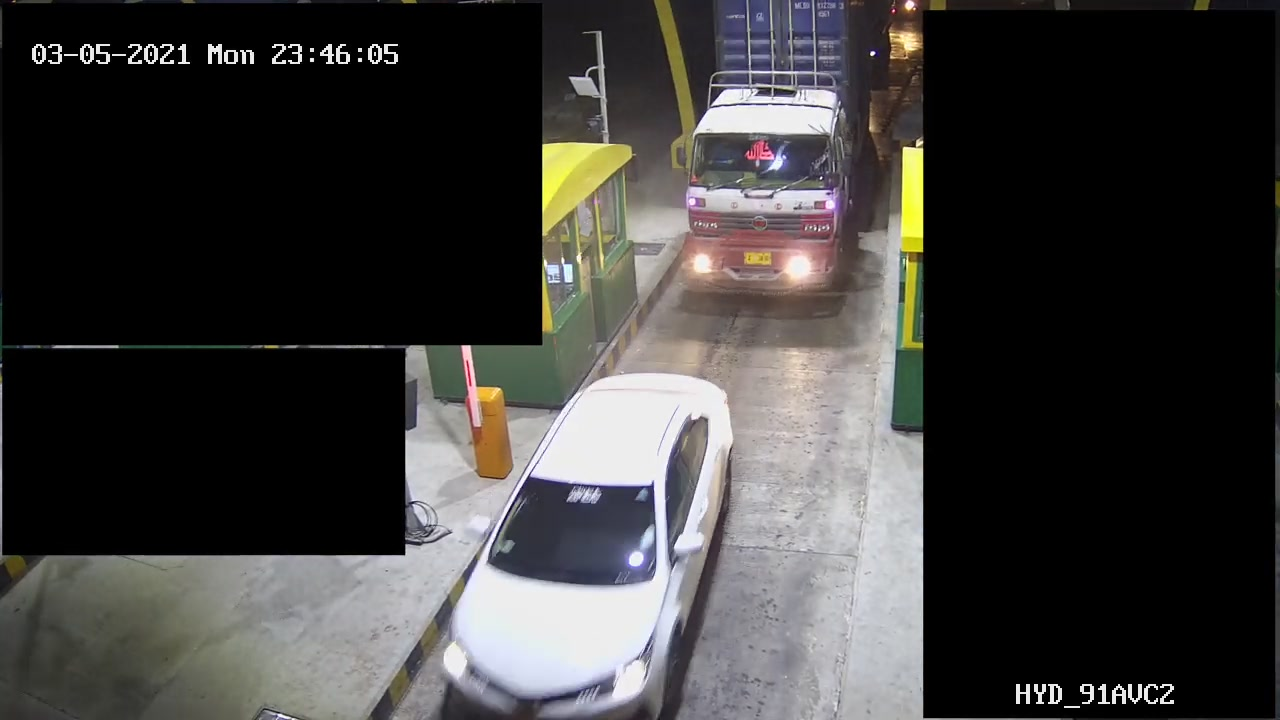F6: (668, 1, 876, 310)
